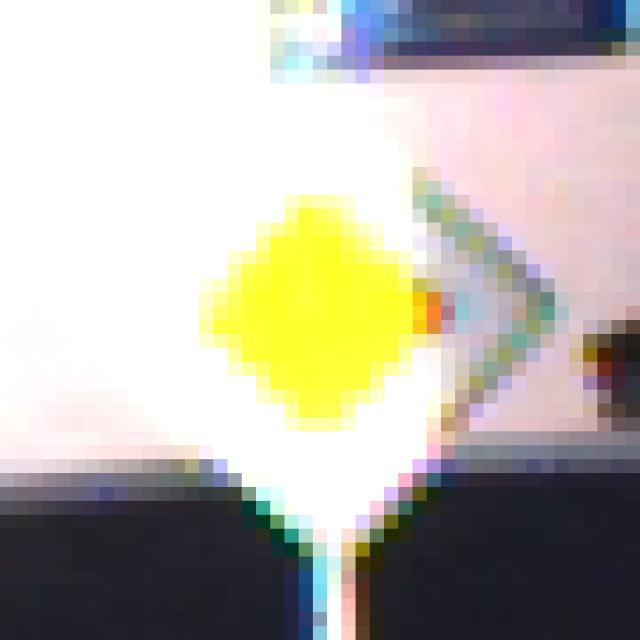Main Road: (72, 85, 570, 572)
